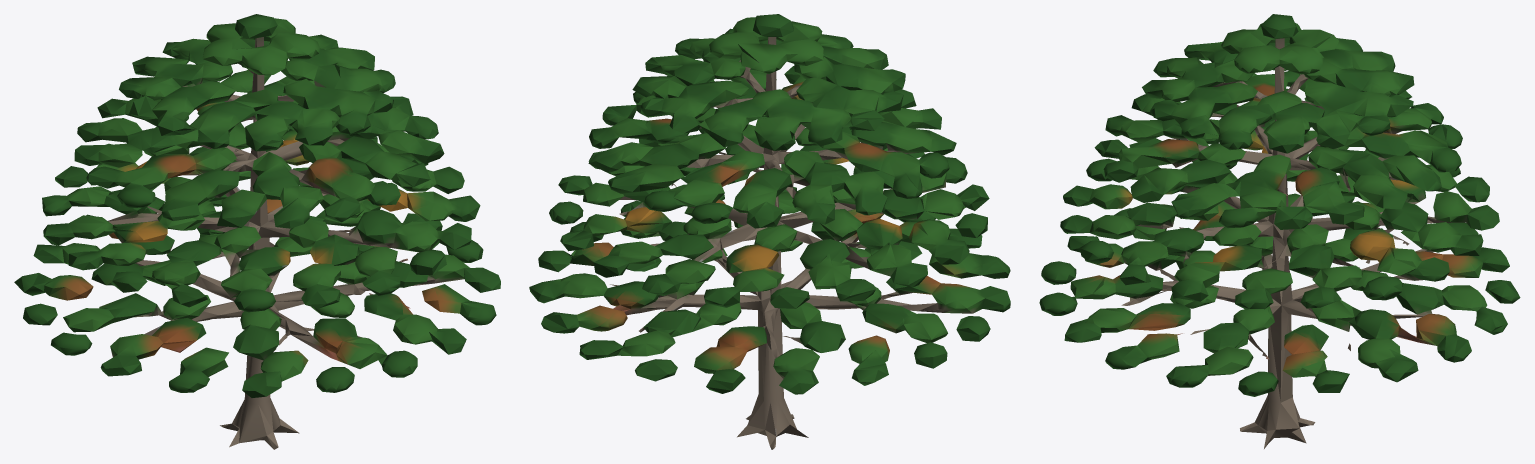
Rendered from cay_bang.mid.glb.
The picture shows the model from 3 angles, left to right: view 1: azimuth 30°, elevation 25°; view 2: azimuth 150°, elevation 25°; view 3: azimuth 270°, elevation 25°; orthographic projection.
Parts seen in each view (by area): view 1: cay_bang; view 2: cay_bang; view 3: cay_bang.
Boxes of the visible parts, x1,y1,x2,y2 form: cay_bang: (14,14,500,449); cay_bang: (529,14,1010,449); cay_bang: (1039,14,1520,448).
Size of the model in its own units: 9.26 by 8.82 by 9.26.
1 material, 1 textured.
